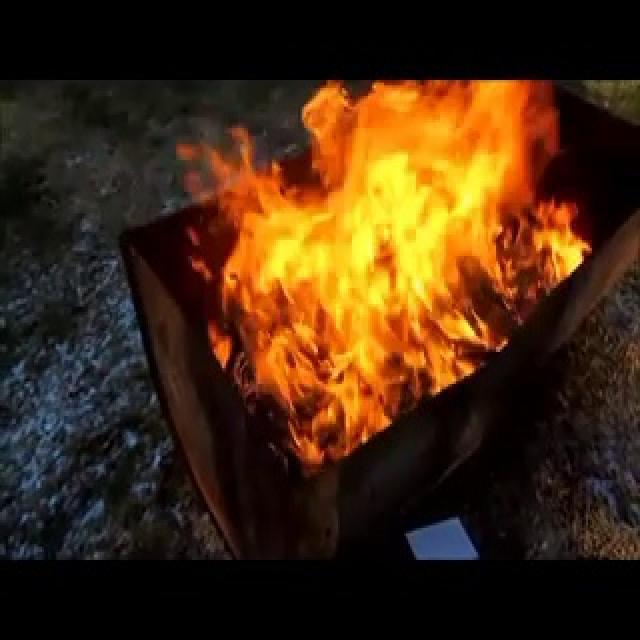fire: (175, 85, 597, 488)
